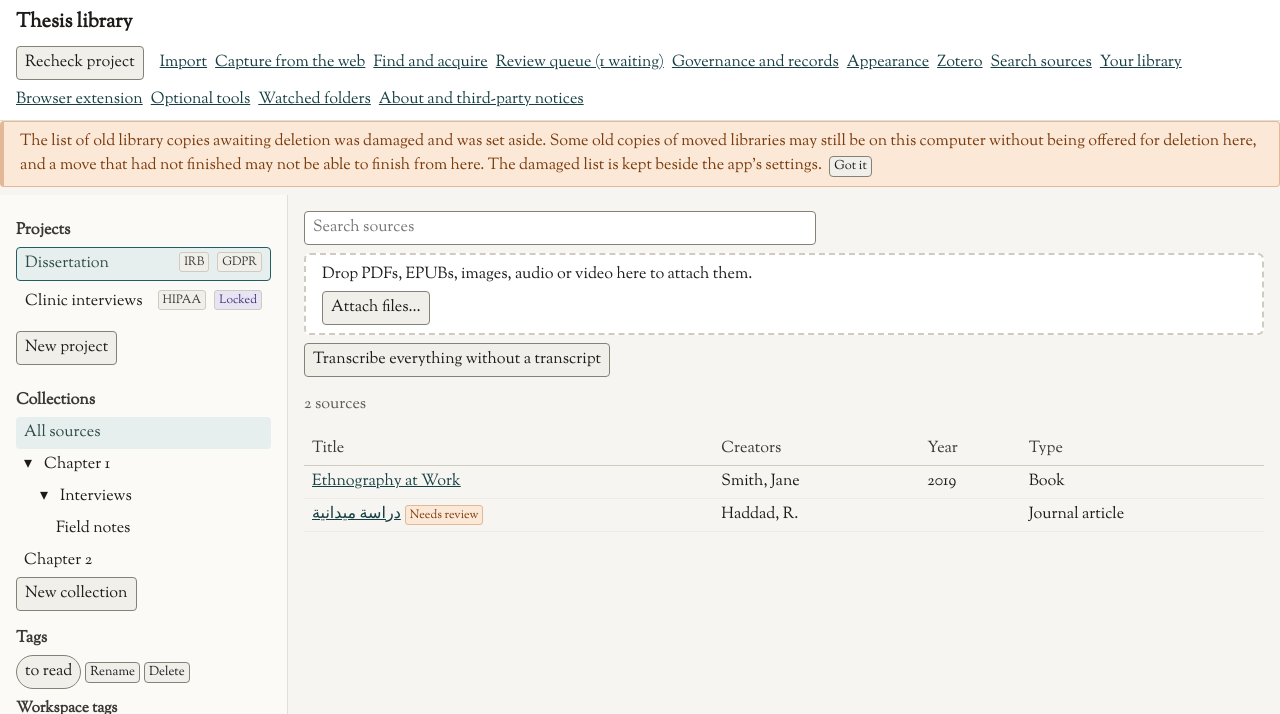
it: device-level notices in the banner area › a “Got it” the service refuses keeps the banner and says why
Click the button "Got it". click: (851, 167)
box: [829, 156, 872, 177]
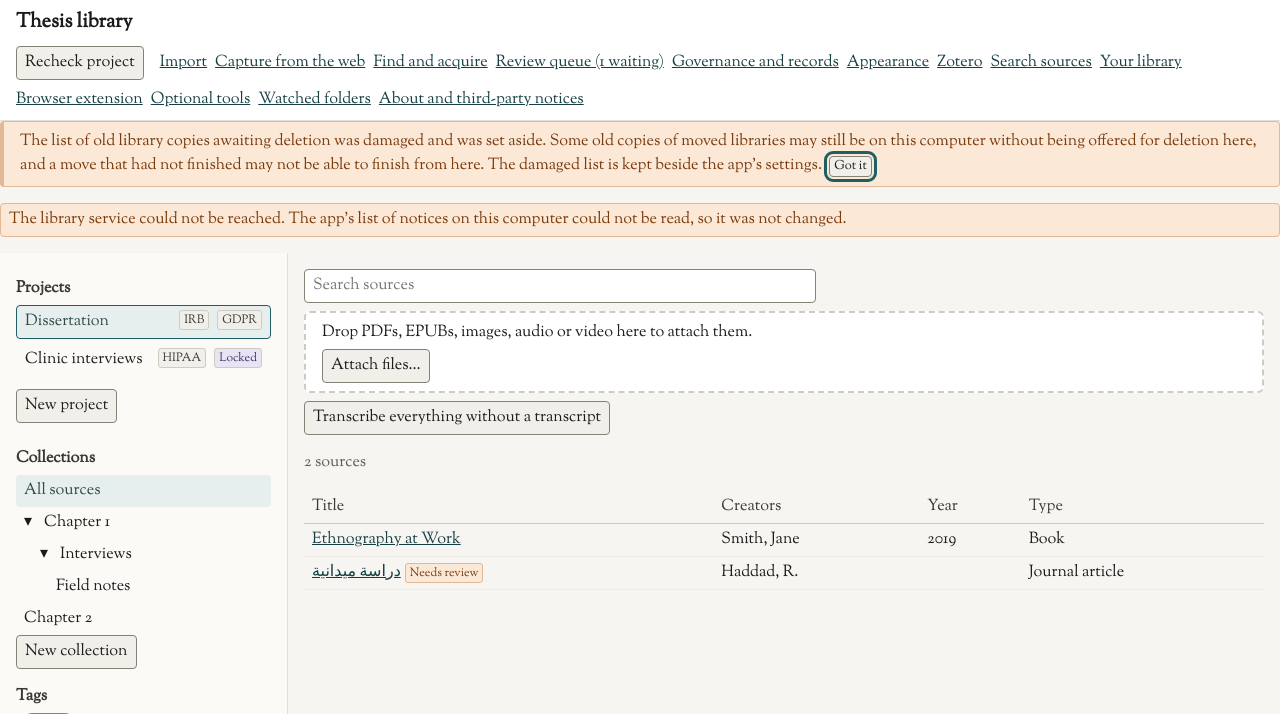
Expected: the text "old library copies awaiting deletion was damaged" is shown, [20, 130, 1256, 177]
Expected: the text "could not be read, so it was not changed" is shown, [9, 208, 847, 231]
